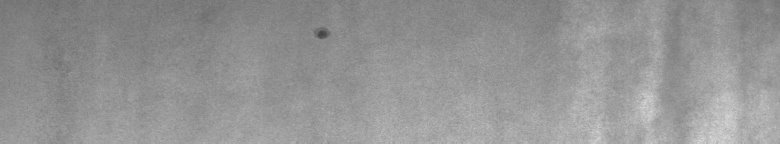fi: (314, 24, 331, 44)
